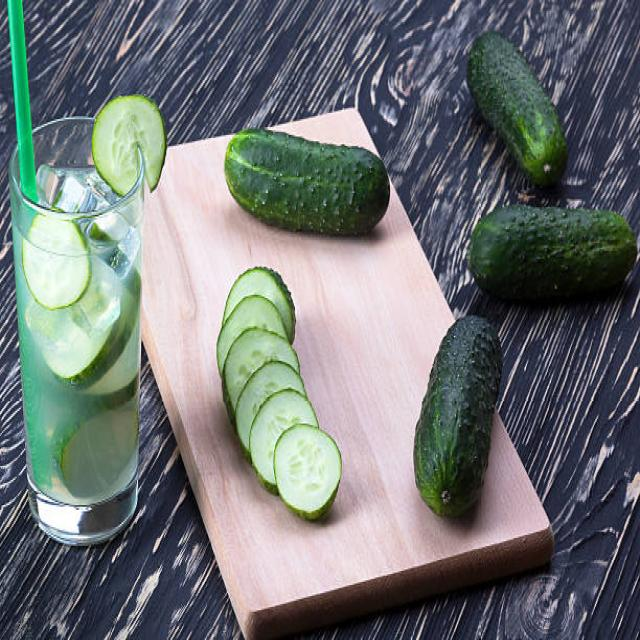cucumber: (411, 312, 508, 518), (224, 127, 392, 239), (466, 29, 567, 189), (468, 204, 634, 297)
